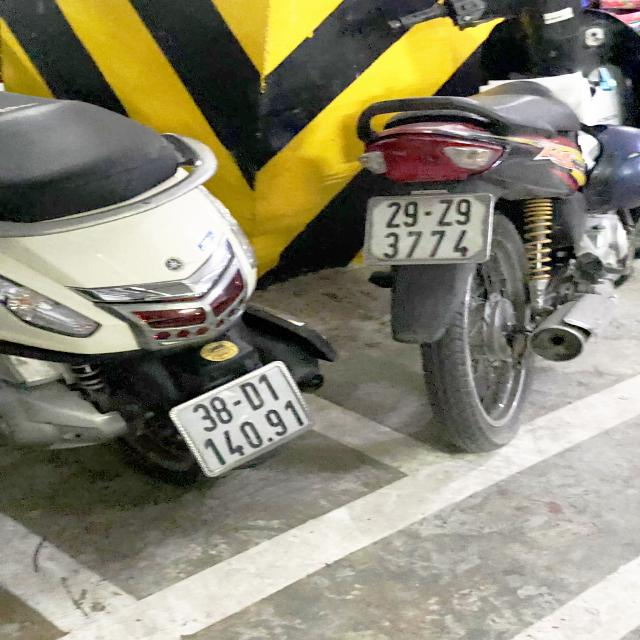license_plate: (168, 360, 323, 483), (366, 187, 498, 266)
